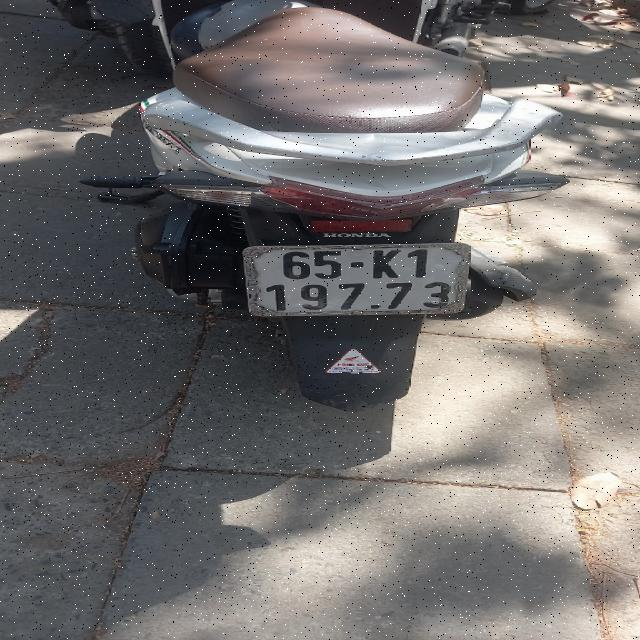1: (406, 248, 436, 280), (264, 282, 289, 310)
3: (422, 280, 450, 308)
5: (312, 250, 344, 282)
6: (282, 250, 312, 282)
7: (336, 282, 365, 311), (381, 282, 411, 310)
9: (299, 283, 330, 311)
K: (369, 250, 402, 280)
